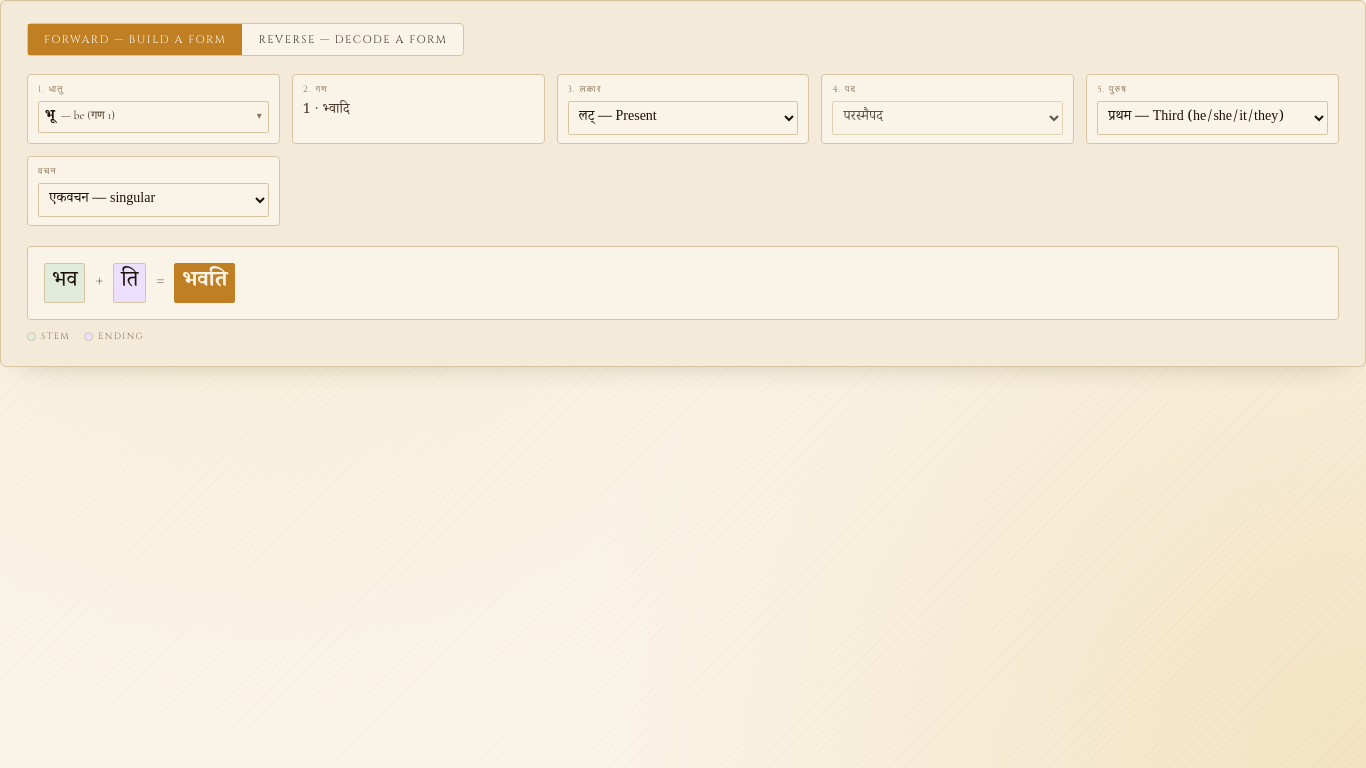
Test: StackBuilder — Forward mode › changing the लकार picker updates the form
# √भू, switch to लृट् (future): भविष्यति
Select "लृट् — Future" in the dropdown labelled "3. लकार": (683, 118) [568,101,798,135]
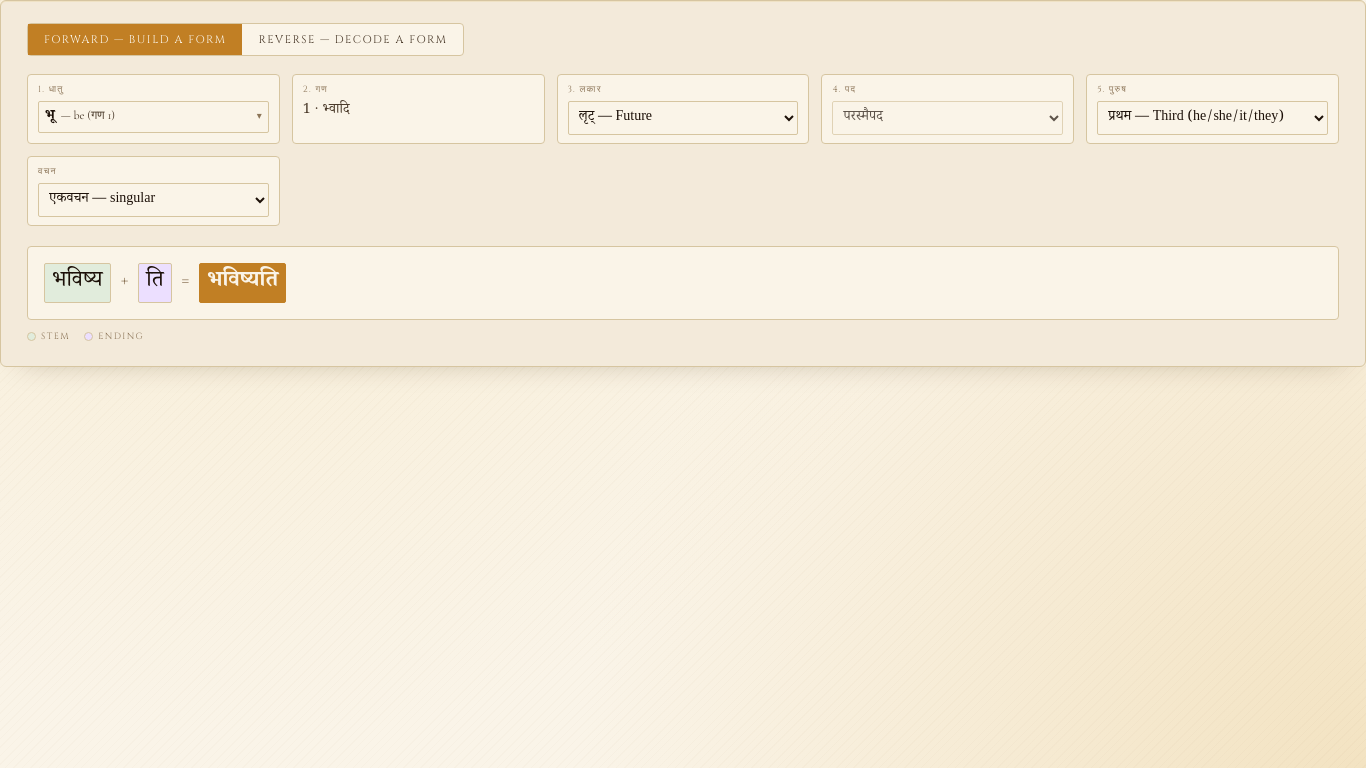
Result: the text with class "formula-result" reads "भविष्यति" at [207,266,278,300]
